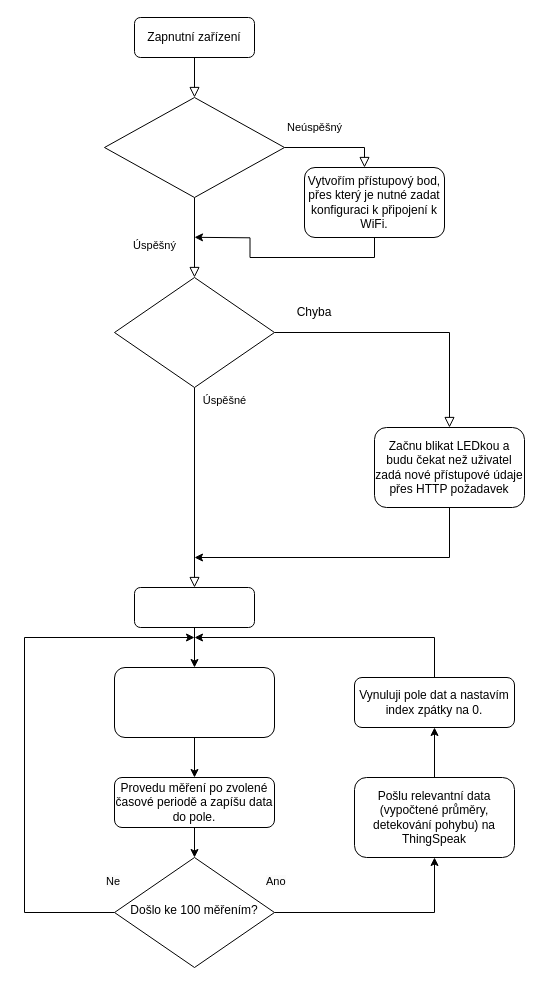
The diagram is 542 pixels wide and 985 high, and some of its shapes have lost their labels. The shapes that lost their labels are listed below. From the top down, each one's centre as x and y in pixels, then its label:
(194,147): Pokus připojení k WiFi síťi.
(194,332): Otestuji připojení na ThingSpeak.
(194,607): Spustím měřící smyčku.
(194,702): Reaguji na uživatelské vstupy (HTTP požadavky, zmáčknutí tlačítka).
